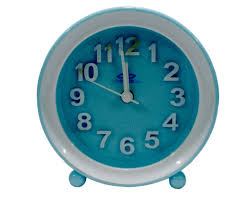alarm_clock: (36, 5, 219, 187), (36, 5, 215, 187)
